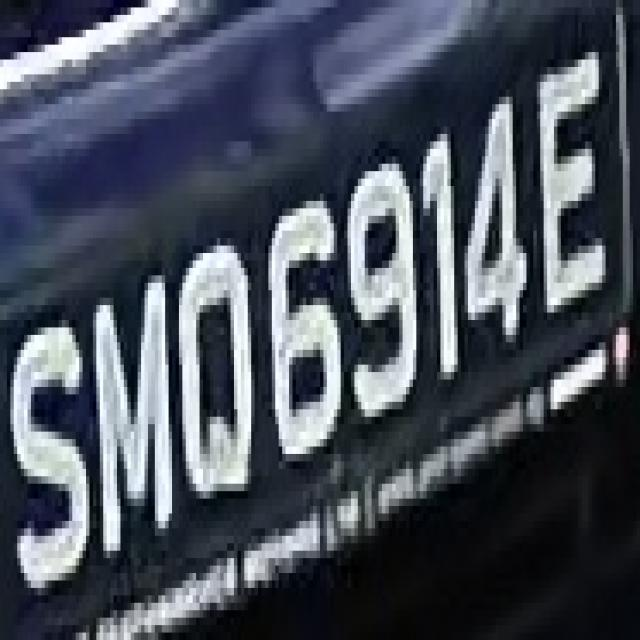1: (426, 82, 464, 402)
4: (458, 59, 533, 350)
6: (265, 164, 344, 498)
9: (351, 126, 420, 462)
E: (523, 37, 606, 335)
M: (96, 238, 182, 581)
Q: (176, 238, 258, 528)
S: (14, 305, 93, 618)
